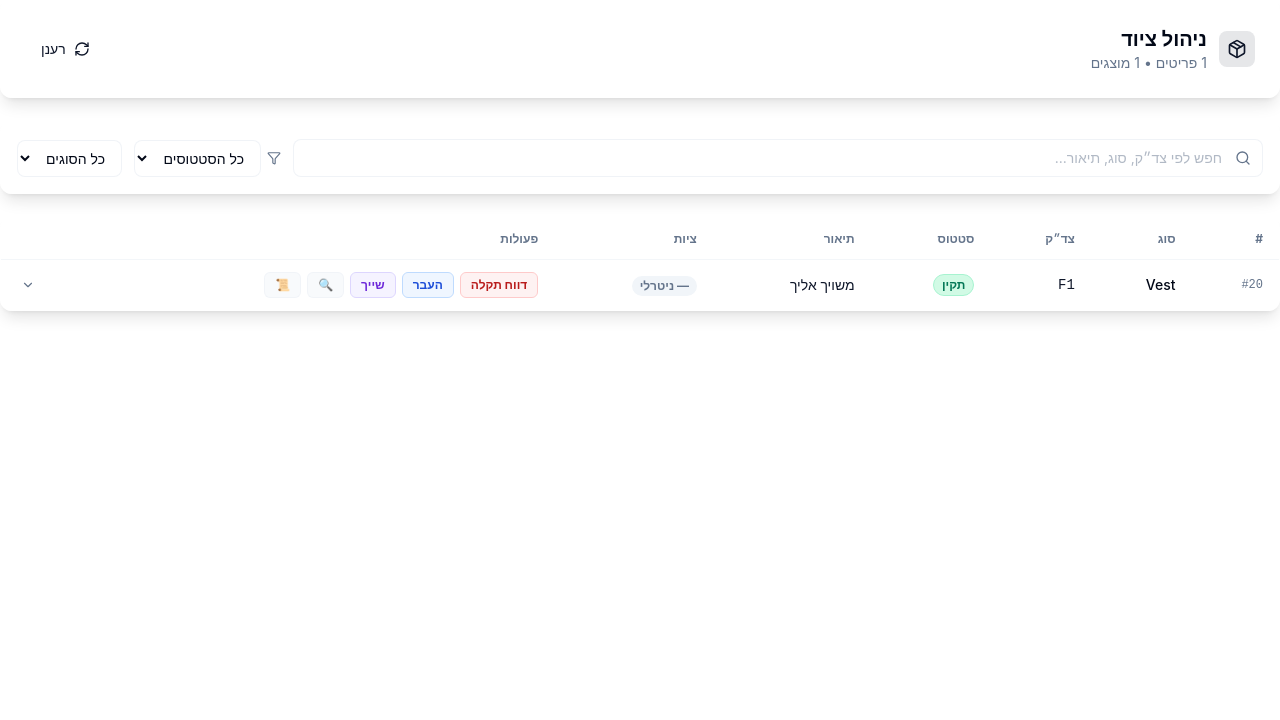
Test: EquipmentPage report fault modal: submitting (FE-H6-2) › is busy while the write is out, then closes and reloads the page
Click the button "דווח תקלה". click: x=499, y=285
box: [460, 272, 538, 298]
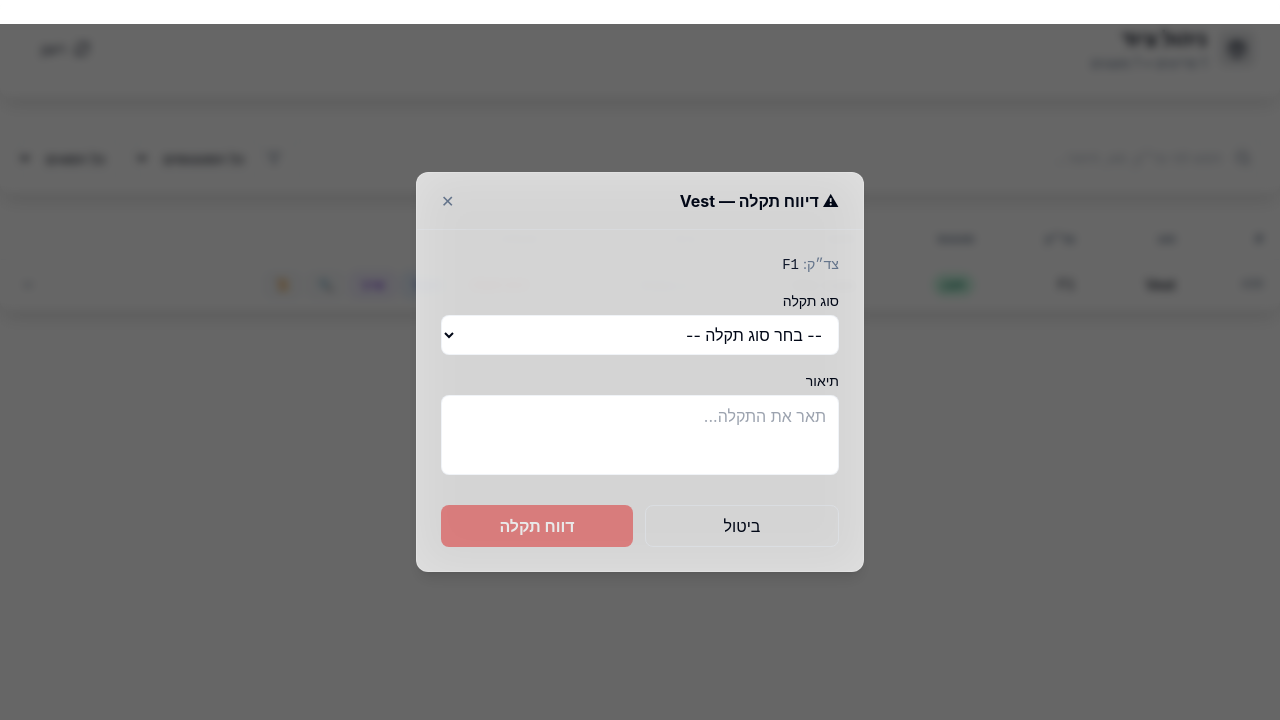
Select "Cracked Housing" in the dropdown. click: x=640, y=335
box: [441, 315, 839, 355]
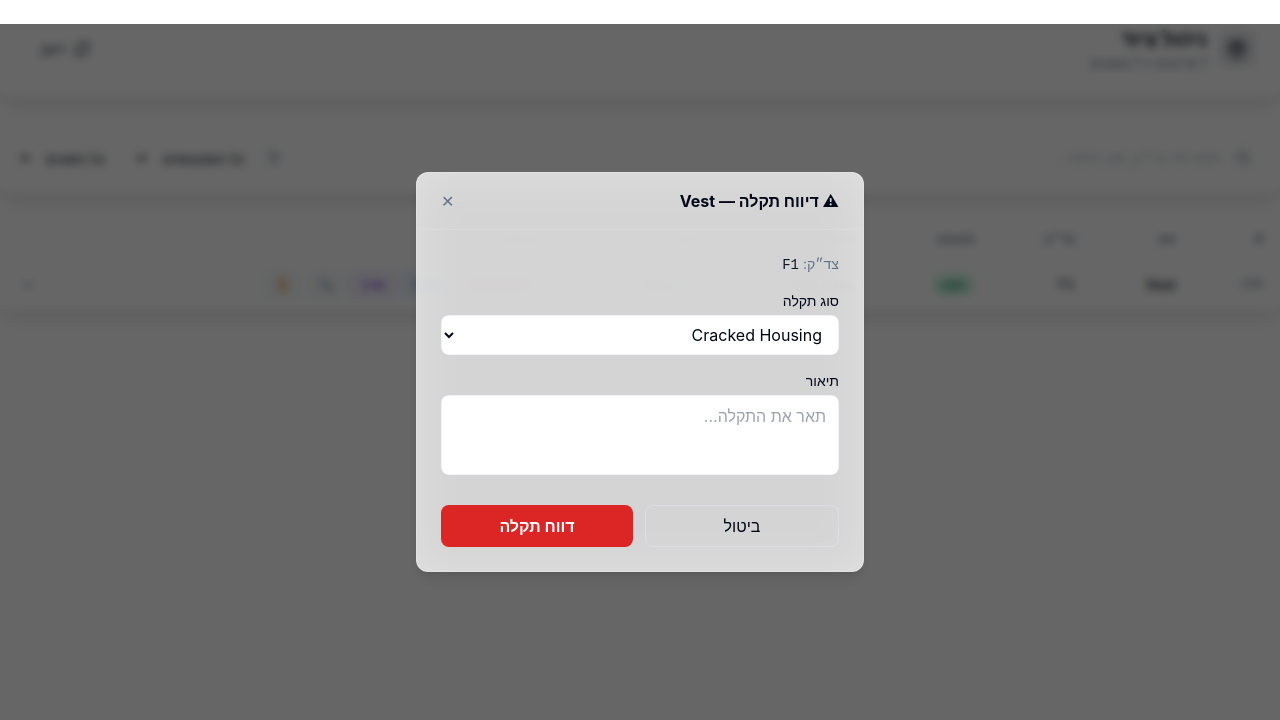
Click the button "דווח תקלה". click: x=537, y=526
box: [441, 505, 633, 547]
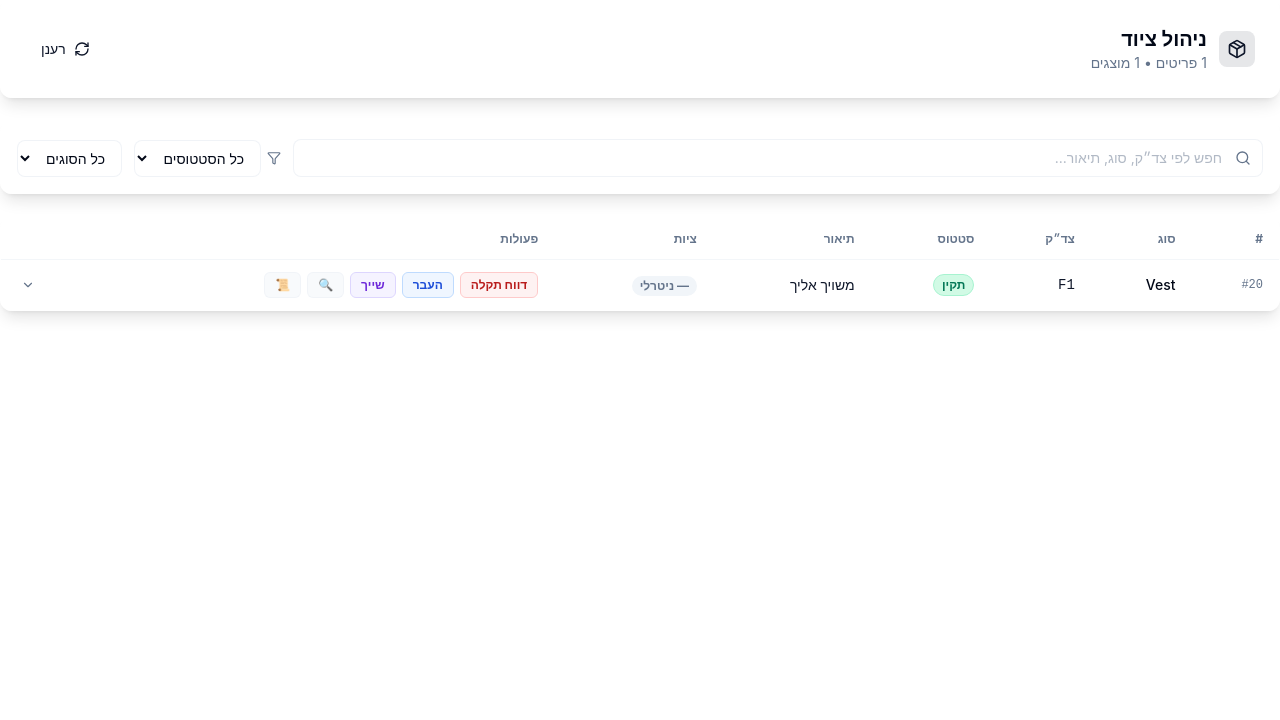
Expected: the button "דווח תקלה" is shown, [460, 272, 538, 298]
Result: the heading "⚠ דיווח תקלה — Vest" is gone
